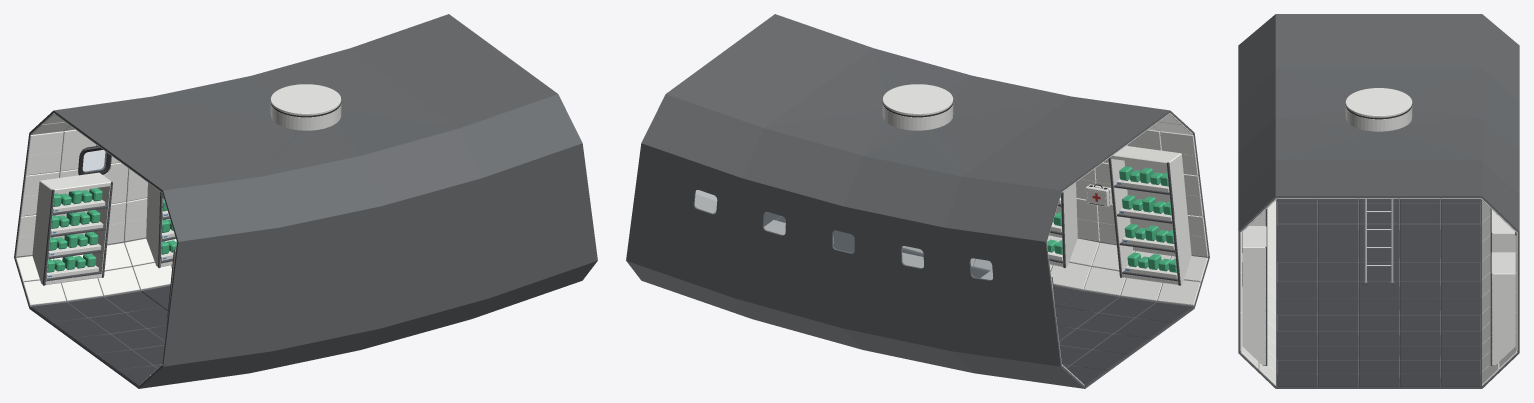
File: ax_grav_07_ring_greenhouse_interior.glb
3 views of the same model, side by side, from view 1: azimuth 30°, elevation 25°; view 2: azimuth 150°, elevation 25°; view 3: azimuth 270°, elevation 25° (orthographic). The views are drawn at different scales.
Parts seen in each view (by area): view 1: pressure_vessel, rack_7_carcass, hatch_door_1, panel_b11_f00, rack_5_carcass, tunnel_liner_1, panel_b9_f03, panel_b7_f02, panel_b11_f01, panel_b7_f00, panel_b7_f03, panel_b10_f00 (+21 smaller); view 2: pressure_vessel, rack_8_carcass, hatch_door_1, rack_6_carcass, tunnel_liner_1, panel_b21_f00, panel_b1_f02, panel_b23_f03, panel_b1_f00, panel_b1_f03, rack_8_posts, panel_b1_f01 (+18 smaller); view 3: pressure_vessel, rack_2_carcass, rack_1_carcass, hatch_door_1, tunnel_liner_1, floor_tile_14, floor_tile_38, floor_tile_02, floor_tile_50, floor_tile_03, floor_tile_15, floor_tile_39 (+52 smaller).
Boxes of the visible parts, <box> form: pressure_vessel: <box>14,14,597,388</box>; rack_7_carcass: <box>32,172,111,284</box>; hatch_door_1: <box>270,84,341,115</box>; panel_b11_f00: <box>25,131,63,175</box>; rack_5_carcass: <box>146,183,172,266</box>; tunnel_liner_1: <box>270,102,341,130</box>; panel_b9_f03: <box>124,198,147,241</box>; panel_b7_f02: <box>98,267,139,295</box>; panel_b11_f01: <box>60,129,95,171</box>; panel_b7_f00: <box>23,280,66,305</box>; panel_b7_f03: <box>132,262,171,289</box>; panel_b10_f00: <box>20,171,59,216</box>; pressure_vessel: <box>626,14,1209,388</box>; rack_8_carcass: <box>1110,146,1191,284</box>; hatch_door_1: <box>882,84,953,115</box>; rack_6_carcass: <box>1049,183,1077,266</box>; tunnel_liner_1: <box>882,102,953,130</box>; panel_b21_f00: <box>1160,131,1198,175</box>; panel_b1_f02: <box>1084,267,1125,295</box>; panel_b23_f03: <box>1076,198,1099,241</box>; panel_b1_f00: <box>1157,280,1200,305</box>; panel_b1_f03: <box>1050,262,1091,289</box>; rack_8_posts: <box>1108,157,1180,285</box>; panel_b1_f01: <box>1120,278,1162,300</box>; pressure_vessel: <box>1238,14,1519,388</box>; rack_2_carcass: <box>1242,226,1266,365</box>; rack_1_carcass: <box>1491,252,1515,365</box>; hatch_door_1: <box>1345,88,1412,117</box>; tunnel_liner_1: <box>1345,106,1412,131</box>; floor_tile_14: <box>1318,203,1357,223</box>; floor_tile_38: <box>1400,203,1439,223</box>; floor_tile_02: <box>1277,203,1316,223</box>; floor_tile_50: <box>1441,203,1480,223</box>; floor_tile_03: <box>1277,224,1317,243</box>; floor_tile_15: <box>1318,224,1358,243</box>; floor_tile_39: <box>1399,224,1439,243</box>.
Bounding box in the file's own units: 7.32 × 3.33 × 4.26.
